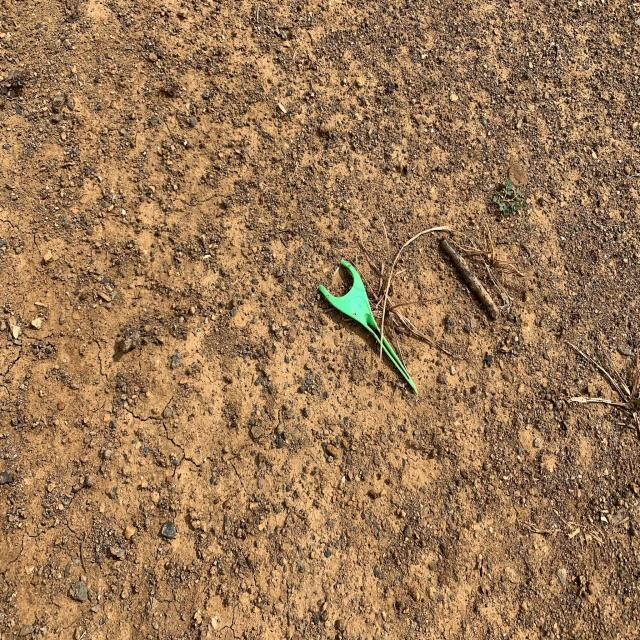litter: (318, 258, 417, 395)
